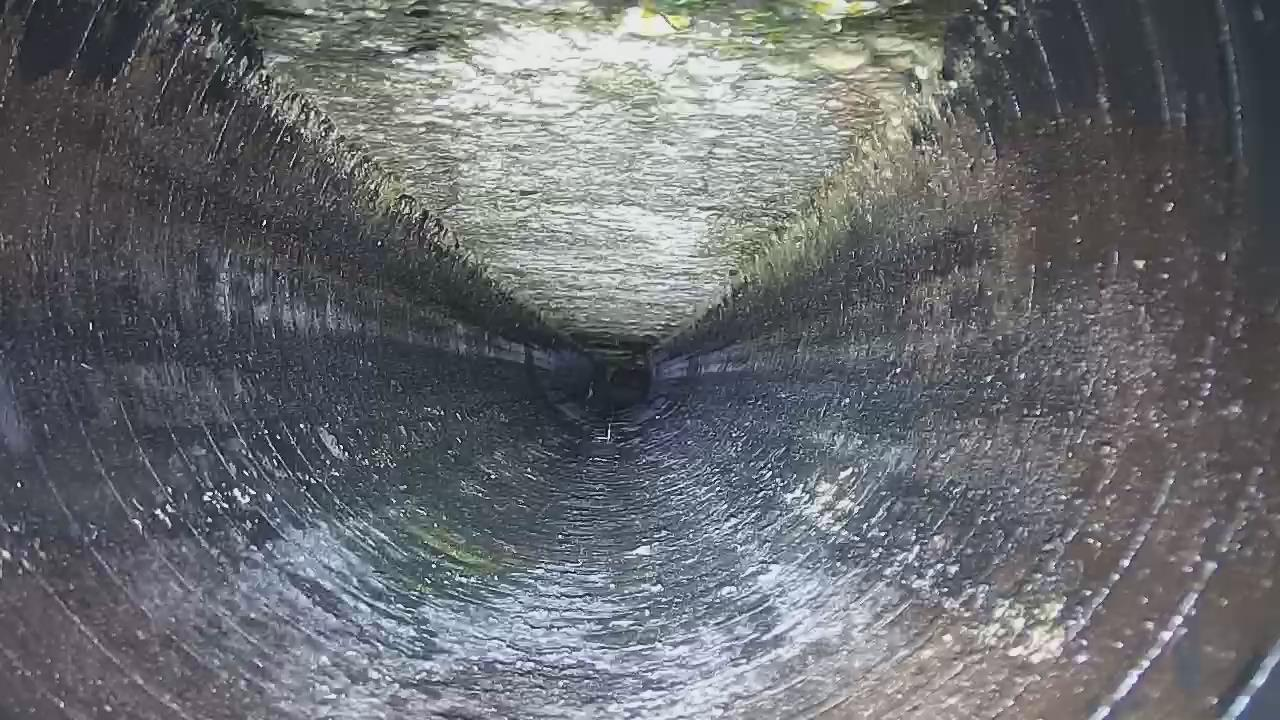FZ: (251, 1, 961, 342)
